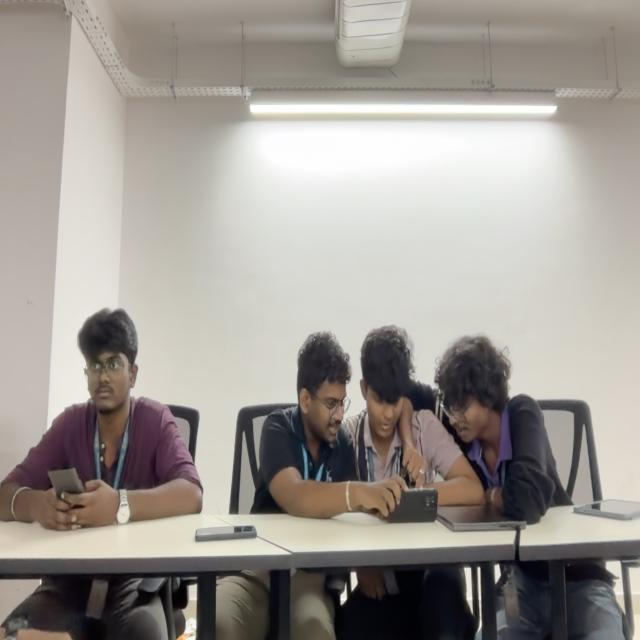Isolated: (0, 309, 204, 529)
socializing: (252, 326, 572, 524)
